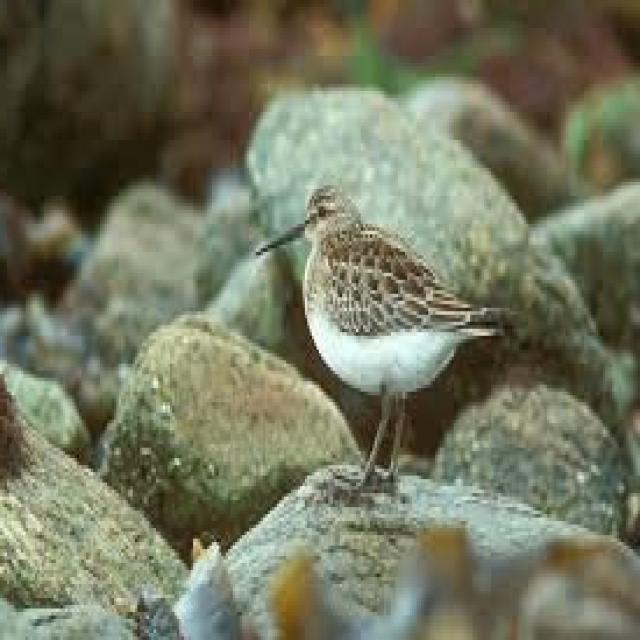sandpiper: (256, 185, 505, 476)
